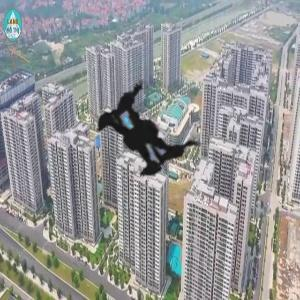drone: (3, 3, 288, 288)
